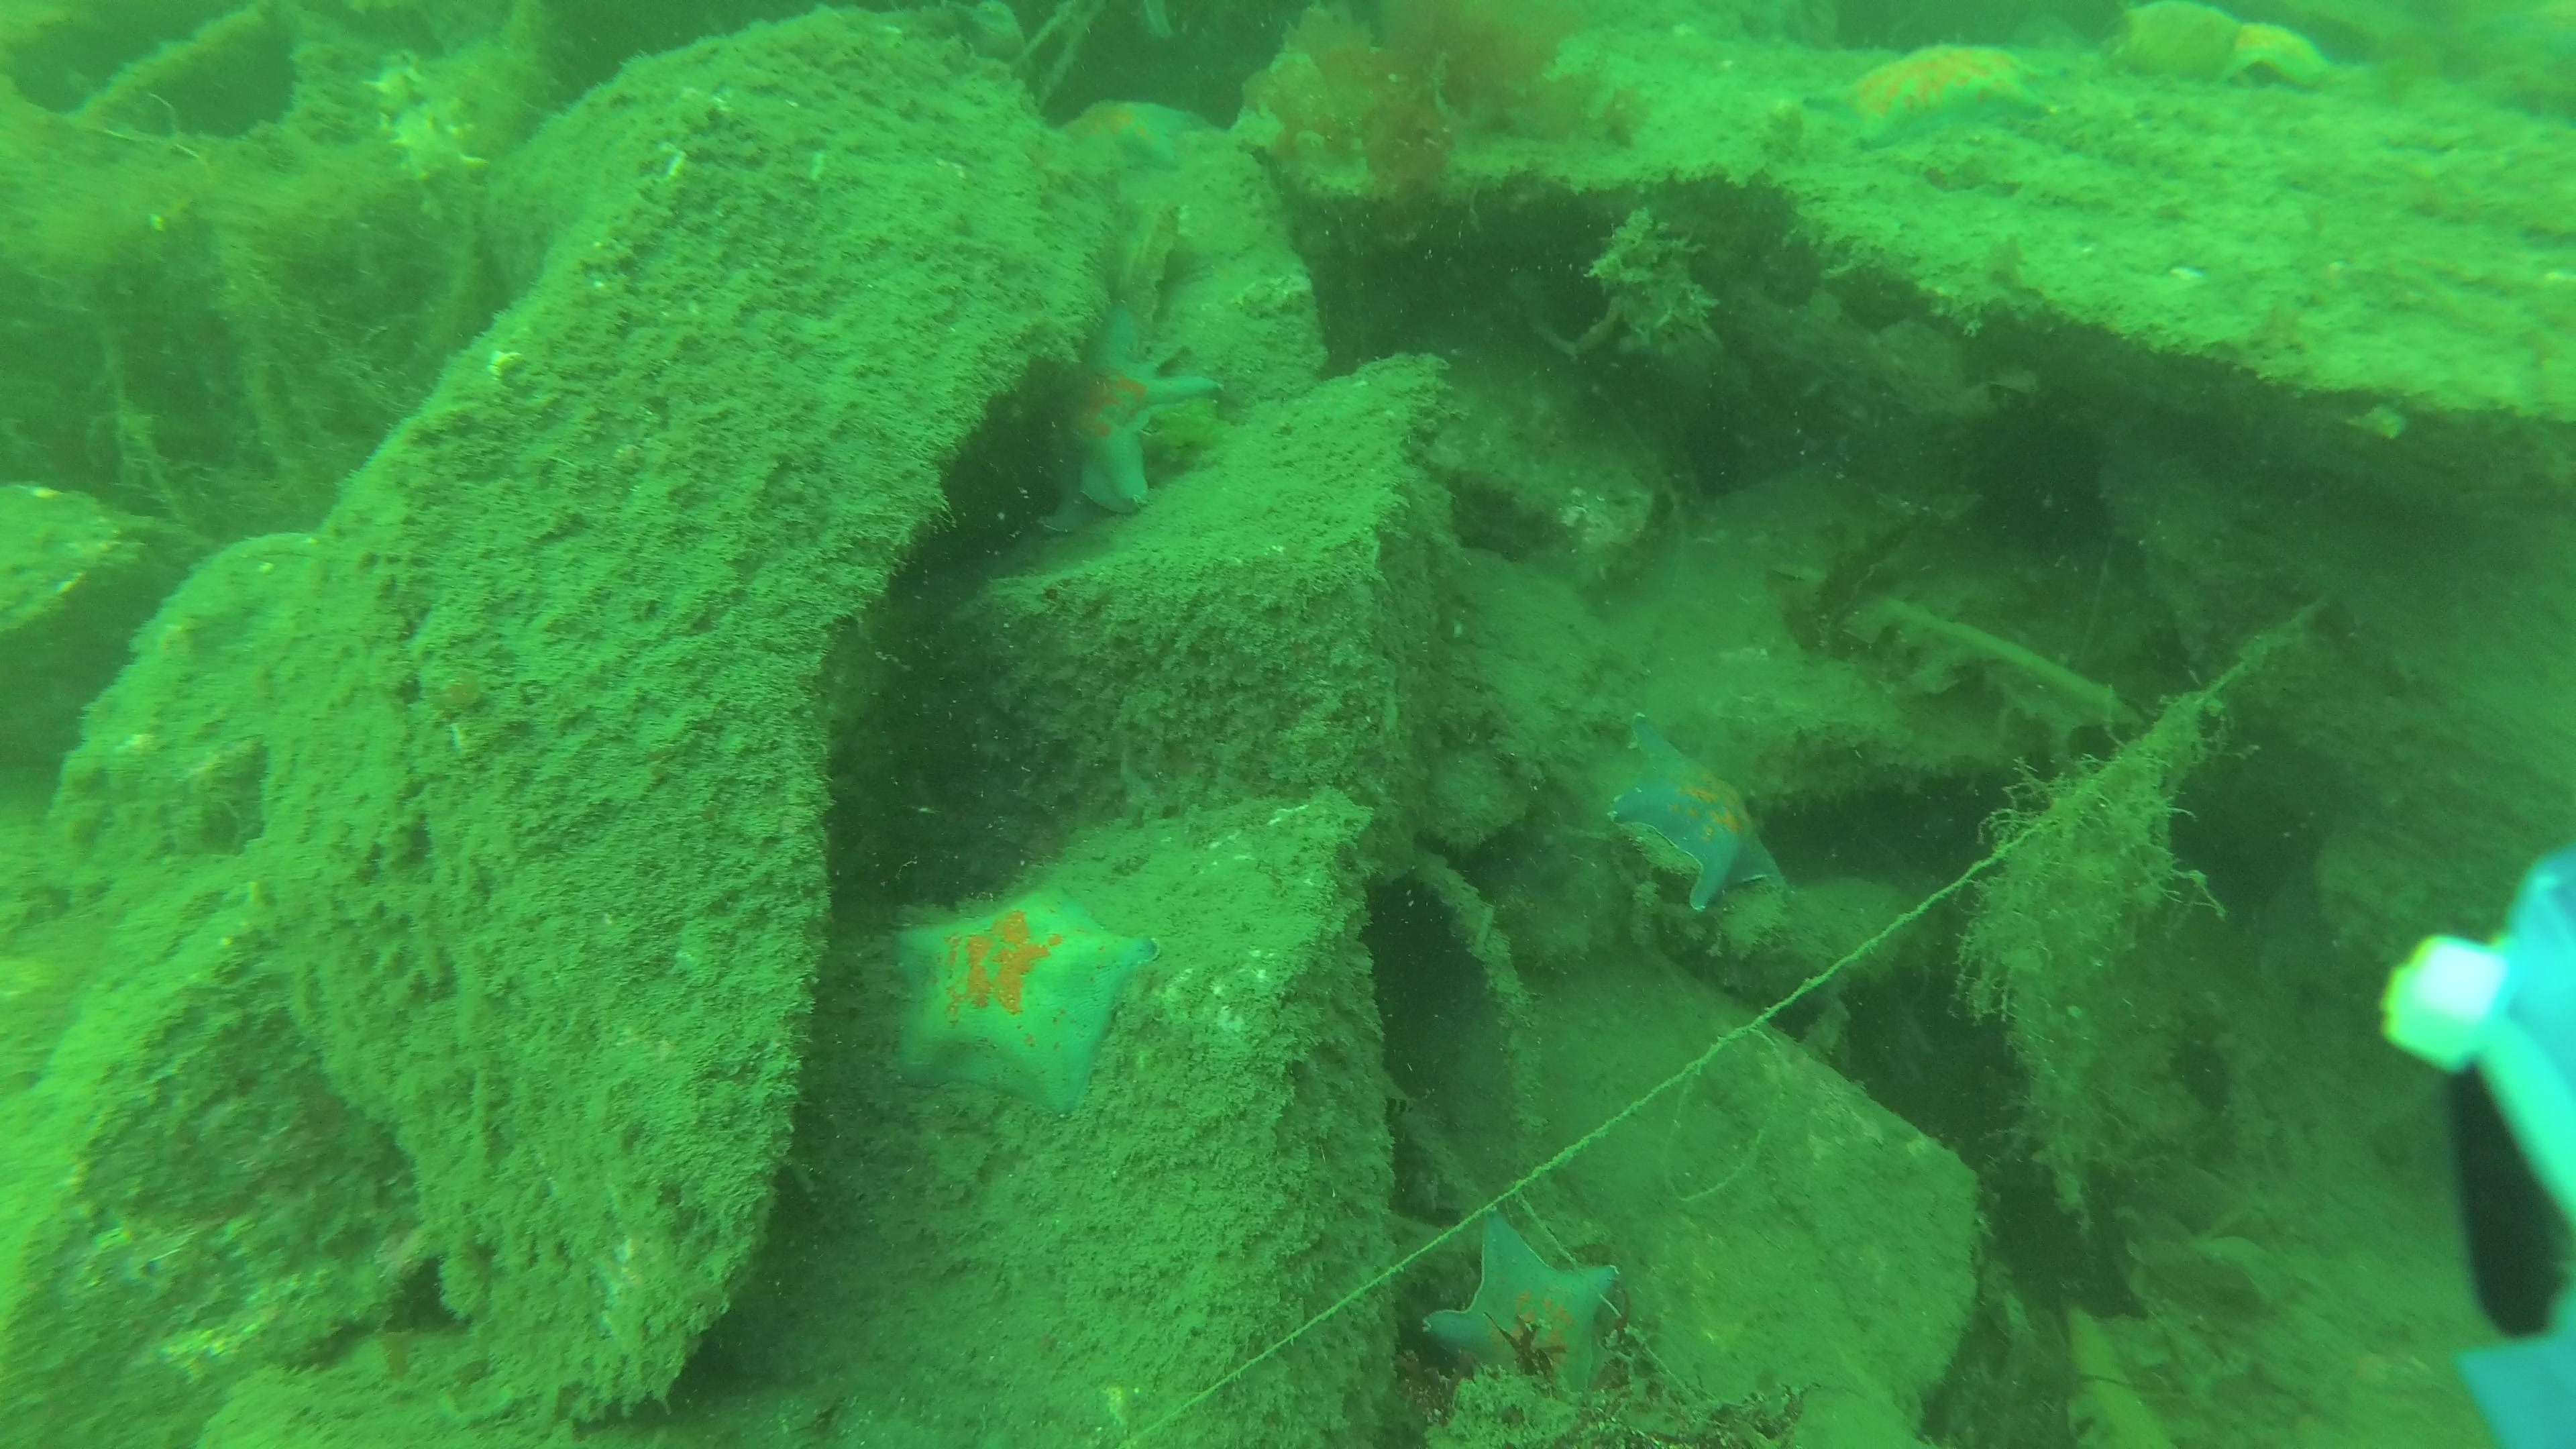holothurian: (372, 58, 487, 193)
starfish: (901, 888, 1150, 1104), (1426, 1208, 1619, 1394), (1606, 725, 1789, 904), (1067, 311, 1219, 502), (1806, 50, 2054, 143), (2118, 5, 2342, 92), (1051, 97, 1200, 184)
